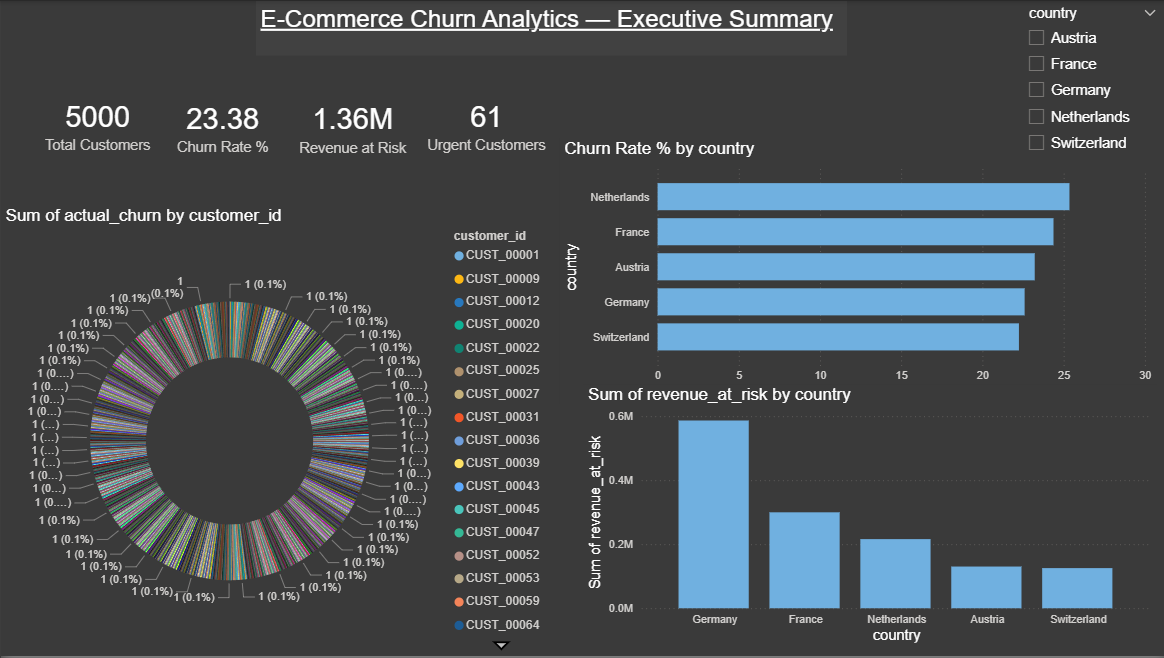

The dashboard page shown, as its layout file describes it:
{"tool":"powerbi","page":{"name":"Page 1","canvas":[1280,720],"ordinal":0},"visuals":[{"type":"textbox","box":[279.9,0,649.1,60.4],"z":0},{"type":"card","fields":{"Values":["fct_churn.Total Customers"]},"box":[0,60.4,212.7,149.6],"z":1000},{"type":"card","fields":{"Values":["fct_churn.Churn Rate %"]},"box":[137.2,61.7,212.7,150.9],"z":2000},{"type":"card","fields":{"Values":["fct_churn.Revenue at Risk"]},"box":[279.9,63.1,212.7,149.6],"z":3000},{"type":"card","fields":{"Values":["fct_churn.Urgent Customers"]},"box":[426.8,60.4,212.7,149.6],"z":4000},{"type":"donutChart","fields":{"Category":["fct_churn.customer_id"],"Y":["Sum(fct_churn.actual_churn)"]},"box":[0,225,605.1,495.4],"z":5000},{"type":"clusteredBarChart","fields":{"Category":["fct_churn.country"],"Y":["fct_churn.Churn Rate %"]},"box":[613.4,150.9,654.5,290.9],"z":6000},{"type":"slicer","fields":{"Values":["fct_churn.country"]},"box":[1115.6,0,164.7,186.6],"z":7000},{"type":"clusteredColumnChart","fields":{"Category":["fct_churn.country"],"Y":["Sum(fct_churn.revenue_at_risk)"]},"box":[639.5,421.3,628.5,288.2],"z":8000}]}

Visuals, with their boxes in screenshot pixels (x1, y1, x2, y2), scaled from the page's 1280x720 canvas onto the 1164x658 screenshot:
textbox: {"left": 255, "top": 0, "right": 845, "bottom": 55}
card - fct_churn.Total Customers: {"left": 0, "top": 55, "right": 193, "bottom": 192}
card - fct_churn.Churn Rate %: {"left": 125, "top": 56, "right": 318, "bottom": 194}
card - fct_churn.Revenue at Risk: {"left": 255, "top": 58, "right": 448, "bottom": 194}
card - fct_churn.Urgent Customers: {"left": 388, "top": 55, "right": 582, "bottom": 192}
donutChart - fct_churn.customer_id x Sum(fct_churn.actual_churn): {"left": 0, "top": 206, "right": 550, "bottom": 657}
clusteredBarChart - fct_churn.country x fct_churn.Churn Rate %: {"left": 558, "top": 138, "right": 1153, "bottom": 404}
slicer - fct_churn.country: {"left": 1014, "top": 0, "right": 1163, "bottom": 171}
clusteredColumnChart - fct_churn.country x Sum(fct_churn.revenue_at_risk): {"left": 582, "top": 385, "right": 1153, "bottom": 648}
